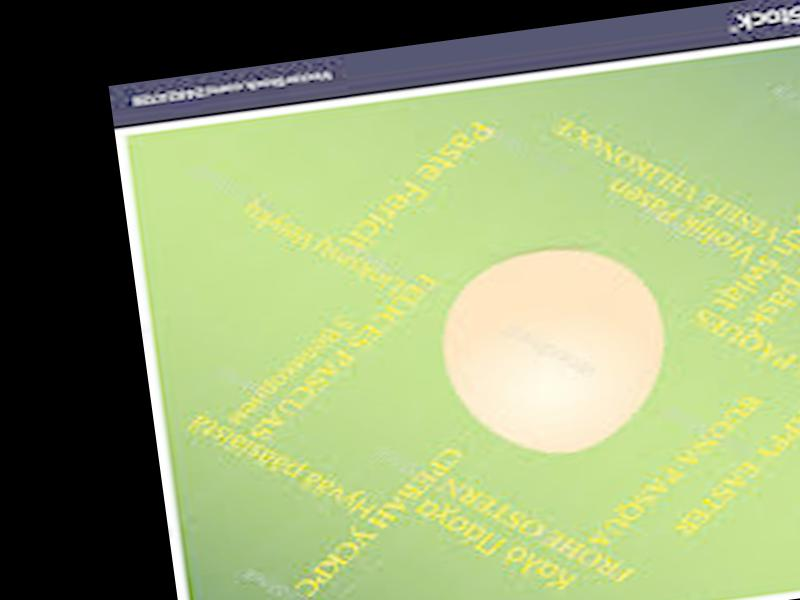Eggs: (431, 238, 674, 462)
